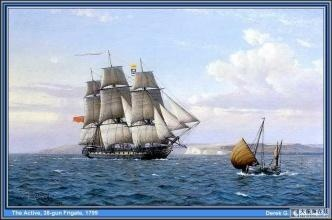fanchuan: (70, 49, 201, 159), (228, 122, 290, 178)
